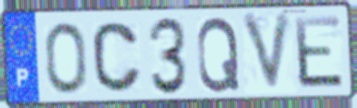3: (147, 15, 189, 97)
C: (90, 20, 144, 95)
E: (291, 14, 347, 91)
O: (42, 20, 89, 97)
Q: (195, 14, 242, 94)
V: (239, 9, 295, 97)
